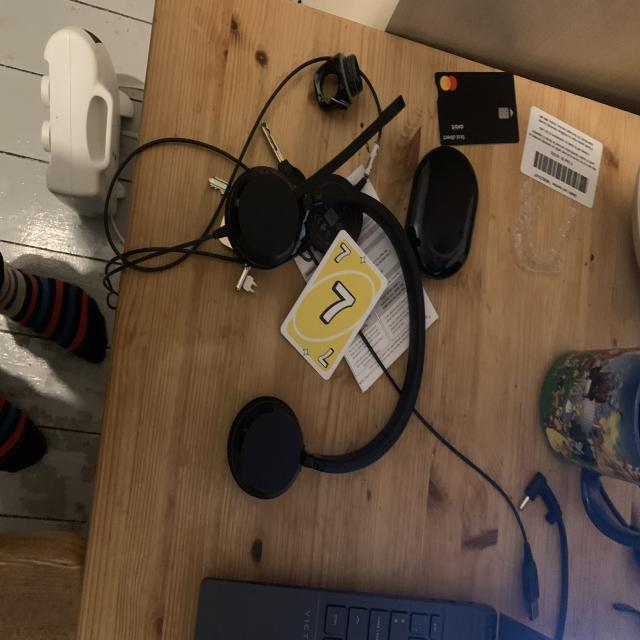lyellow-7: (331, 238, 353, 270)
